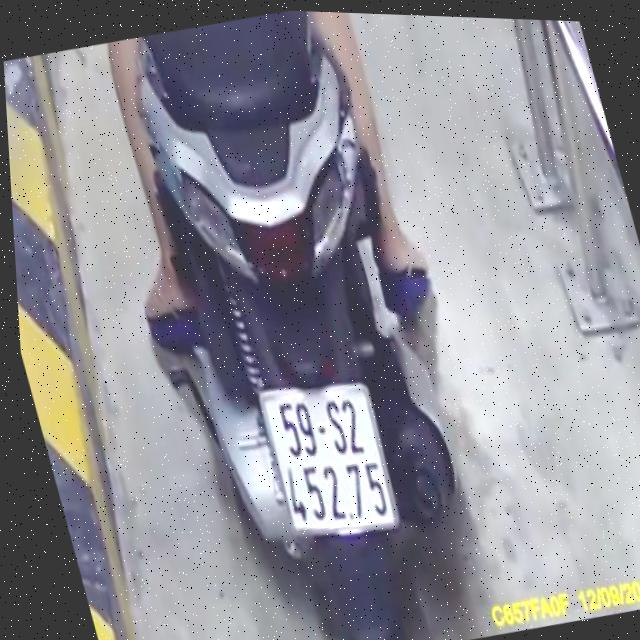motorcycle: (80, 3, 524, 640)
plate: (243, 361, 409, 553)
